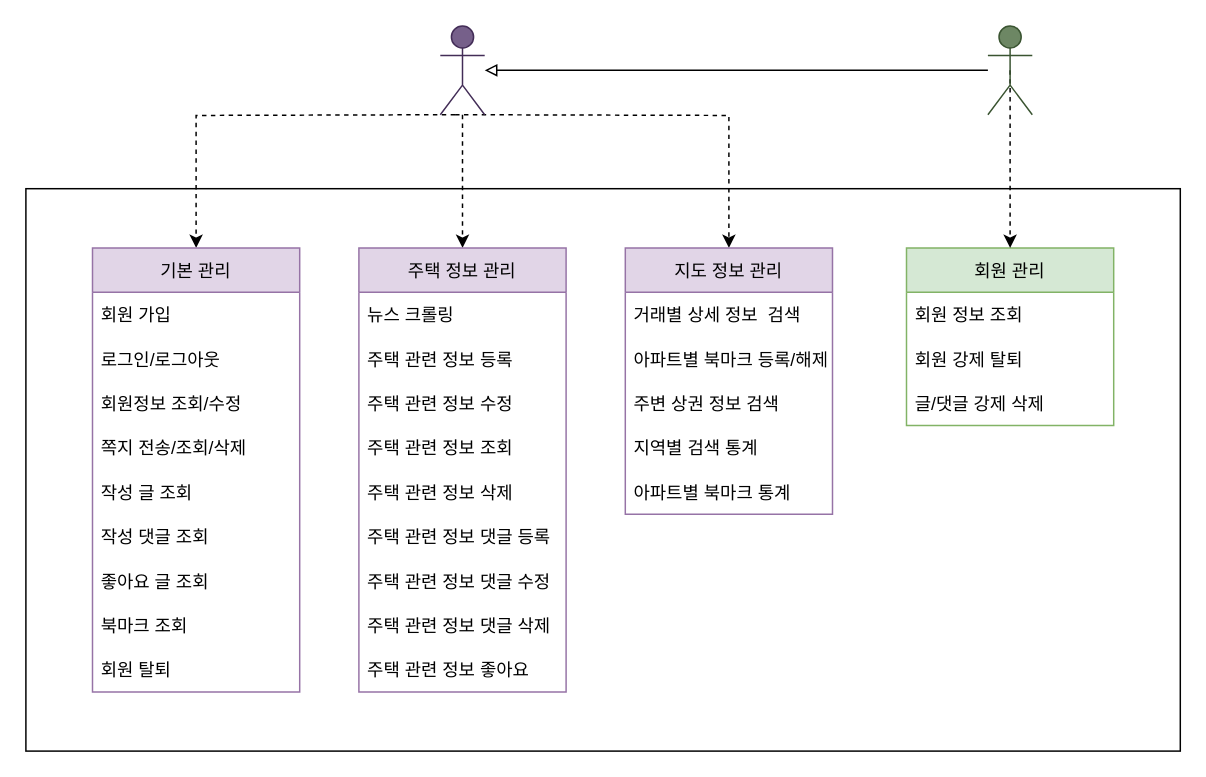
The diagram is 1206 pixels wide and 777 high, and some of its shapes have lost their labels. Each missing label, with the centre of its shape:
"관리자" belongs at point 1009,69.
"사용자" belongs at point 462,69.
